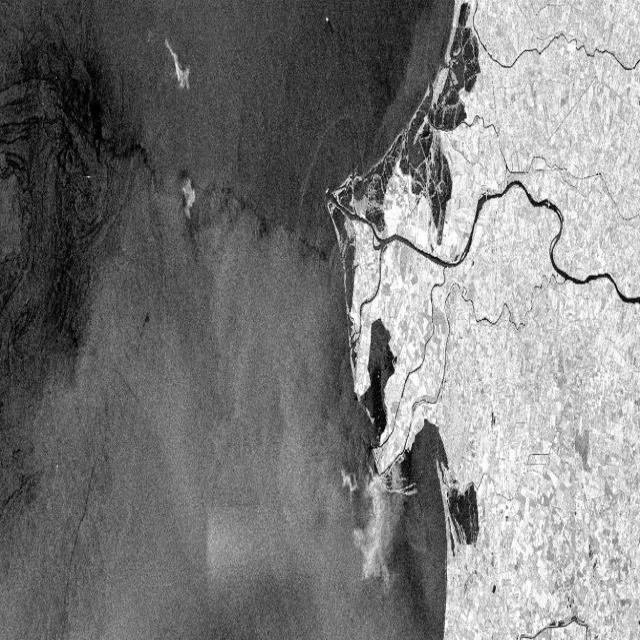look-alike: (5, 39, 124, 388), (392, 507, 439, 639), (366, 368, 388, 423), (400, 447, 418, 487)
oil-spill: (54, 465, 100, 621), (323, 12, 337, 43)
